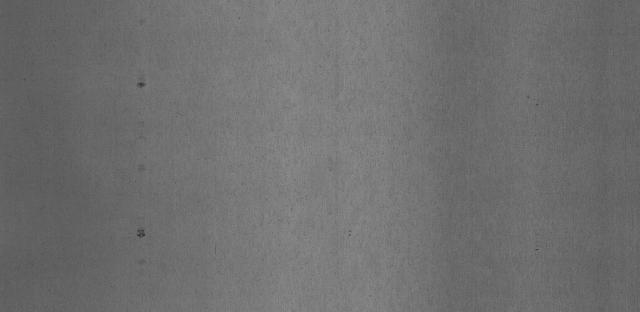oil_spot: (134, 67, 153, 92), (130, 221, 150, 244), (137, 258, 150, 268)
